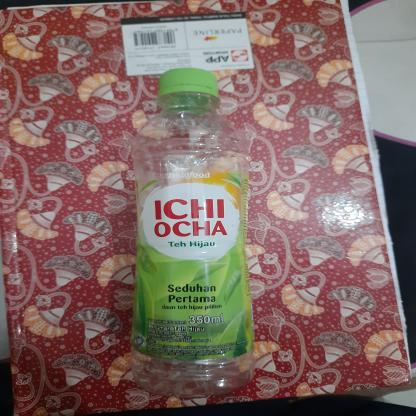bottle: (126, 65, 257, 400)
